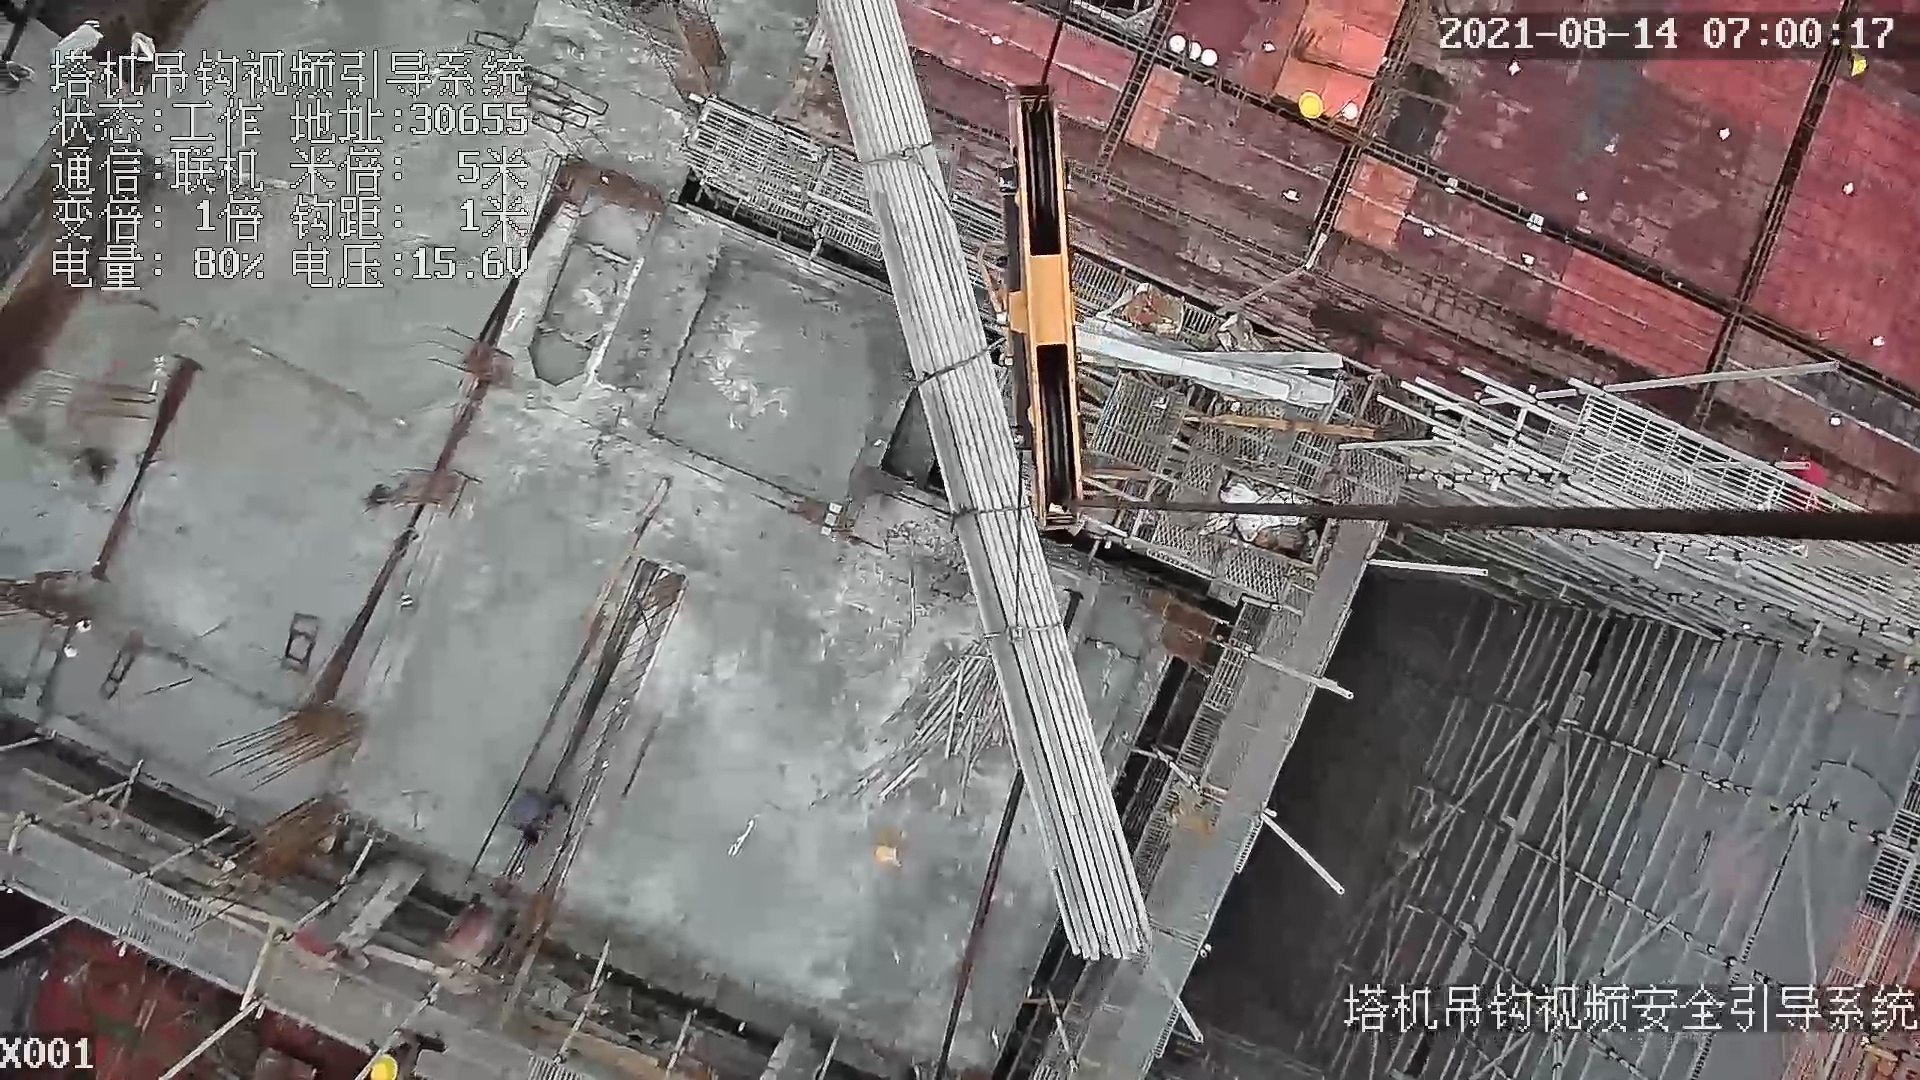helmet: (370, 1055, 399, 1080), (1298, 91, 1323, 119)
hook: (959, 78, 1104, 536)
person: (354, 1027, 460, 1080), (508, 788, 573, 844)
rebar: (817, 1, 1161, 964)
